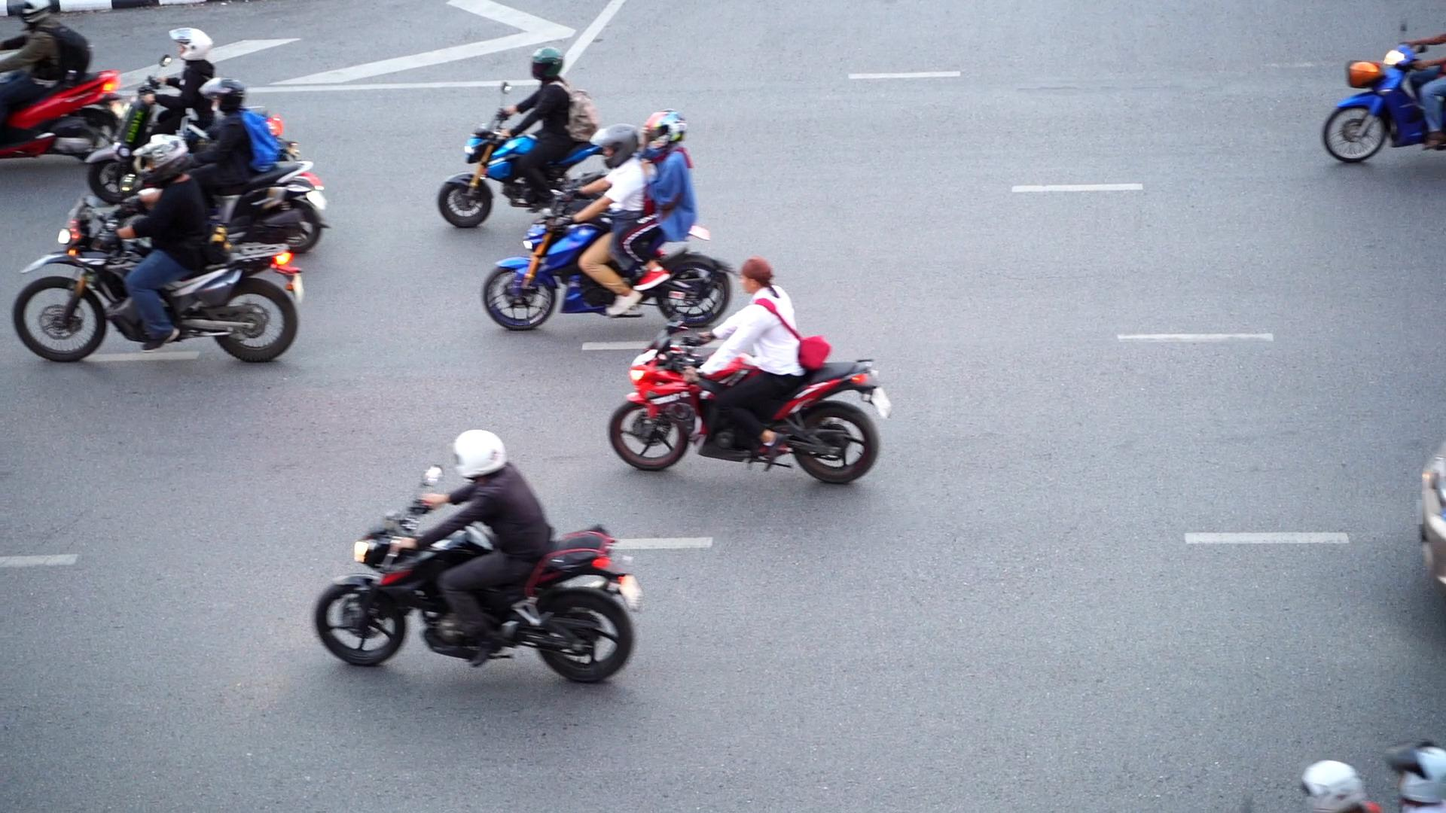driver: (313, 429, 645, 684), (12, 134, 305, 363), (604, 256, 894, 484), (482, 106, 741, 330), (112, 77, 331, 252), (85, 28, 300, 204), (434, 47, 603, 230), (0, 0, 126, 165)
helmet: (1383, 739, 1446, 807), (1301, 760, 1368, 813), (452, 429, 508, 480), (132, 134, 190, 183), (589, 123, 638, 169), (642, 107, 686, 152), (198, 76, 245, 113), (167, 27, 214, 62), (531, 47, 563, 80), (7, 0, 50, 24)
no-helmet: (740, 256, 773, 295)
